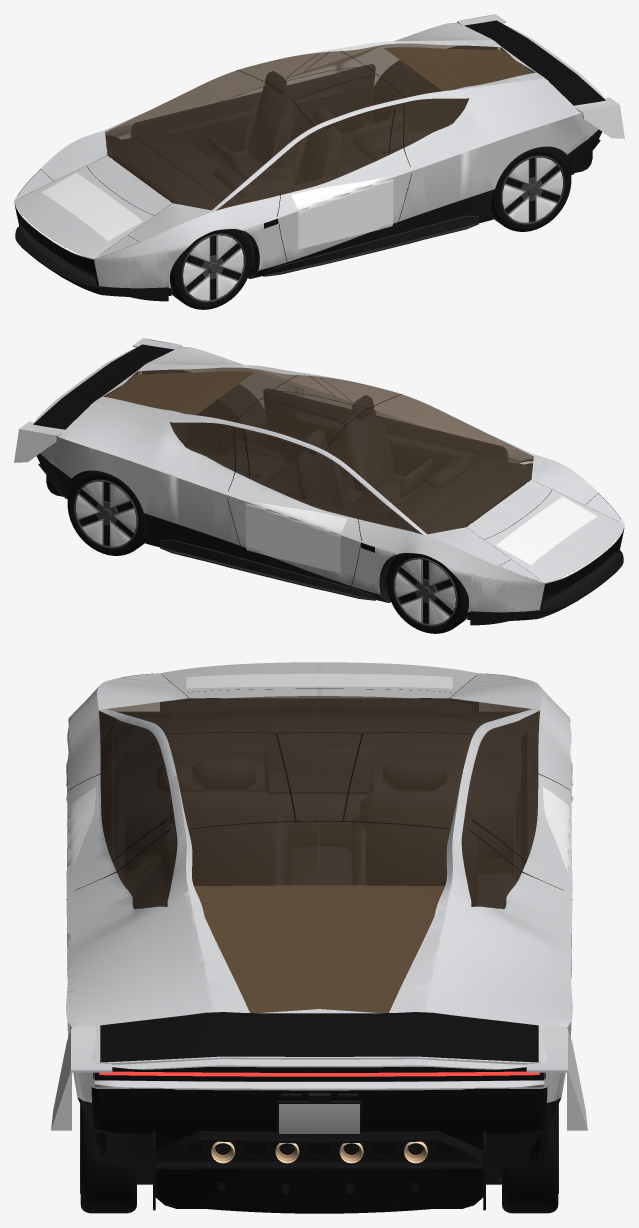
The model's file is car_lod1.raw.glb.
The picture shows the model from 3 angles, top to bottom: view 1: azimuth 30°, elevation 25°; view 2: azimuth 150°, elevation 25°; view 3: azimuth 270°, elevation 25°; orthographic projection. The views are drawn at different scales.
Parts seen in each view (by area): view 1: Body, Decals, Wheel_RL_mesh, Wheel_FL_mesh, Thrusters, WingWell, WingPlates; view 2: Body, Decals, Wheel_RR_mesh, Wheel_FR_mesh, Thrusters, WingWell, WingPlates; view 3: Body, Thrusters, WingWell, Decals, WingPlates, Wheel_RL_mesh, Wheel_RR_mesh.
Boxes of the visible parts, <box> form: Body: <box>14,20,607,301</box>; Decals: <box>41,87,393,249</box>; Wheel_RL_mesh: <box>491,146,571,231</box>; Wheel_FL_mesh: <box>170,229,252,309</box>; Thrusters: <box>384,47,600,172</box>; WingWell: <box>464,20,605,105</box>; WingPlates: <box>457,14,624,138</box>; Body: <box>31,344,624,625</box>; Decals: <box>245,411,597,573</box>; Wheel_RR_mesh: <box>67,470,147,555</box>; Wheel_FR_mesh: <box>386,553,468,633</box>; Thrusters: <box>38,371,254,496</box>; WingWell: <box>33,344,174,429</box>; WingPlates: <box>14,338,181,462</box>; Body: <box>66,662,572,1208</box>; Thrusters: <box>91,885,547,1213</box>; WingWell: <box>100,1012,538,1062</box>; Decals: <box>66,673,572,1133</box>; WingPlates: <box>51,1026,587,1130</box>; Wheel_RL_mesh: <box>80,1104,136,1213</box>; Wheel_RR_mesh: <box>502,1104,558,1213</box>.
Bounding box in the file's own units: 5.02 × 1.35 × 2.26.
